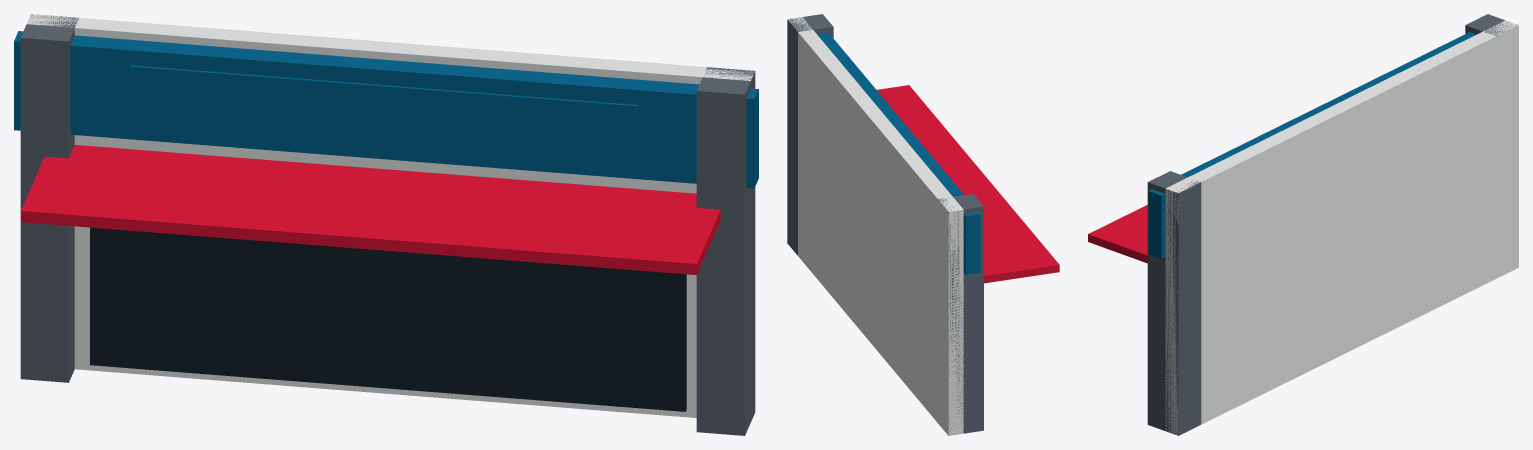
Rendered from dom_boulevard.glb.
The picture shows the model from 3 angles, left to right: view 1: azimuth 30°, elevation 25°; view 2: azimuth 150°, elevation 25°; view 3: azimuth 270°, elevation 25°; orthographic projection. The views are drawn at different scales.
Parts seen in each view (by area): view 1: dom_boulevard_lod0; view 2: dom_boulevard_lod0; view 3: dom_boulevard_lod0.
Boxes of the visible parts, <box> form: dom_boulevard_lod0: <box>14,14,758,435</box>; dom_boulevard_lod0: <box>787,14,1059,435</box>; dom_boulevard_lod0: <box>1088,14,1518,435</box>.
Size of what is drawn, in the model's own units: 8.11 by 4.6 by 7.4.
